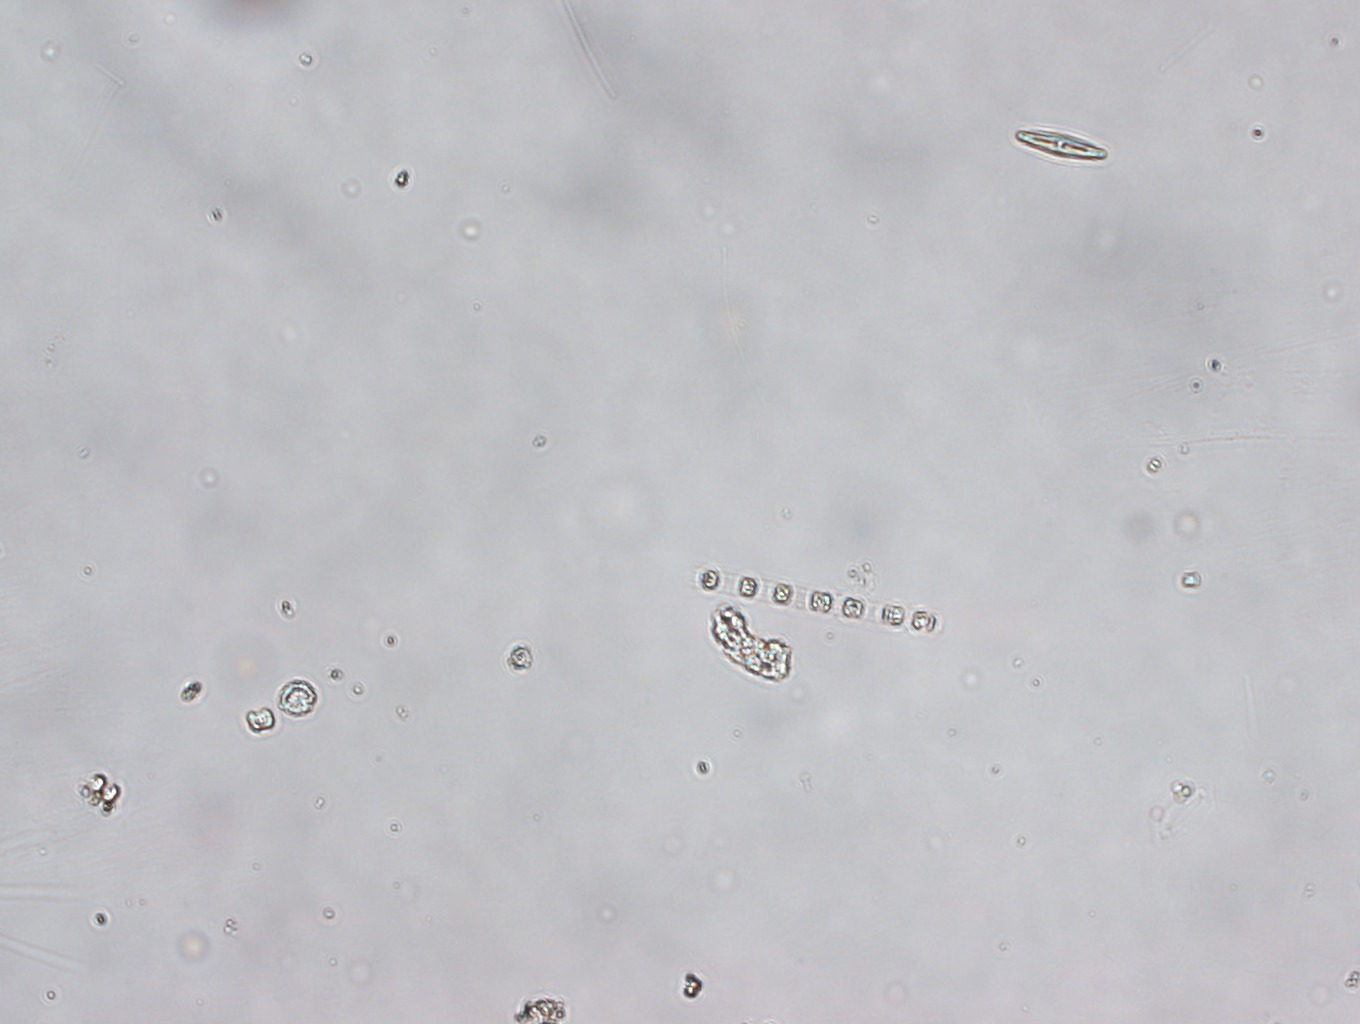navicula: (1010, 125, 1113, 163)
skeletonema: (693, 565, 940, 636)
